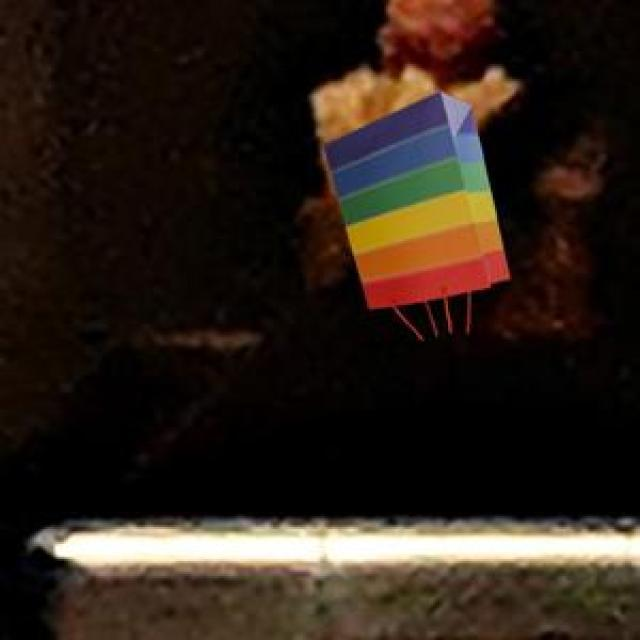paper: (320, 88, 506, 305)
